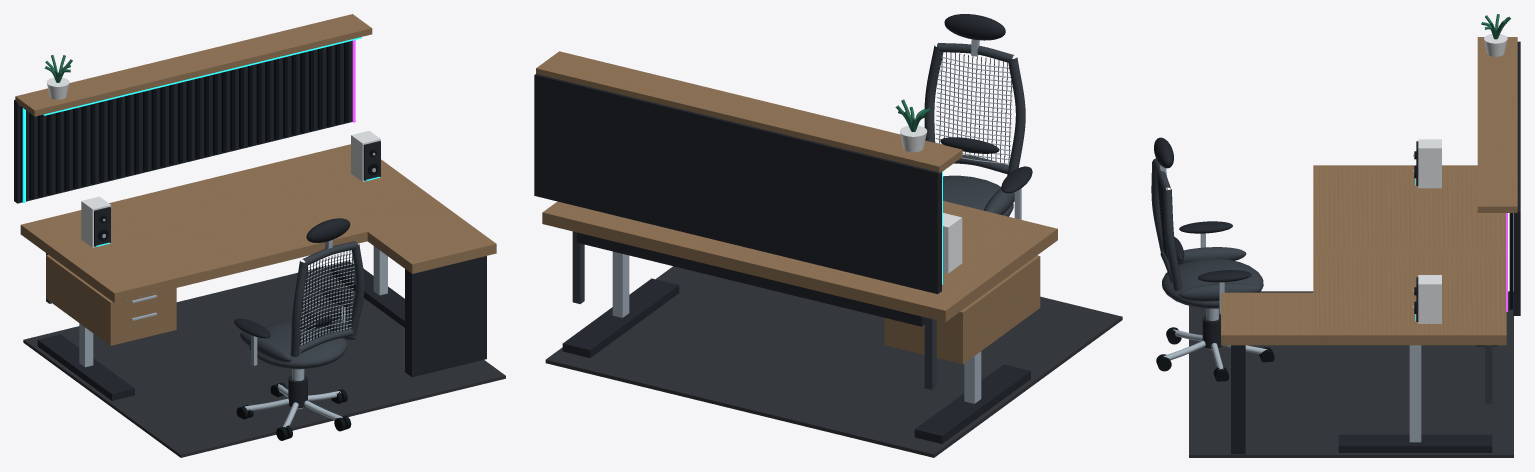
Rendered from furniture85-oak.glb.
The picture shows the model from 3 angles, left to right: view 1: azimuth 30°, elevation 25°; view 2: azimuth 150°, elevation 25°; view 3: azimuth 270°, elevation 25°; orthographic projection. The views are drawn at different scales.
Visible parts, largest first — view 1: s83-surface-aa570fc5-2dd5-464b-a9e1-32b9e9395084, s83-surface-4eed5475-73f9-4112-a0f8-cae410176088, s83-surface-552bce98-1128-4cd5-8bcc-b2e776c83c39, s83-surface-804e1797-804a-4871-b65b-fe994ecedee7, s83-surface-77d8890f-de57-4a69-874a-96963f91ef9b, s83-surface-8c113f22-1d9e-4361-a366-19054b4a2192, s83-surface-6b452c49-f145-495c-a3de-9c197d094284, s83-surface-35d7deae-23a2-4a52-a8cc-423f68fc3dd6; view 2: s83-surface-552bce98-1128-4cd5-8bcc-b2e776c83c39, s83-surface-4eed5475-73f9-4112-a0f8-cae410176088, s83-surface-aa570fc5-2dd5-464b-a9e1-32b9e9395084, s83-surface-77d8890f-de57-4a69-874a-96963f91ef9b, s83-surface-8c113f22-1d9e-4361-a366-19054b4a2192, s83-surface-804e1797-804a-4871-b65b-fe994ecedee7, s83-surface-6b452c49-f145-495c-a3de-9c197d094284; view 3: s83-surface-aa570fc5-2dd5-464b-a9e1-32b9e9395084, s83-surface-4eed5475-73f9-4112-a0f8-cae410176088, s83-surface-552bce98-1128-4cd5-8bcc-b2e776c83c39, s83-surface-77d8890f-de57-4a69-874a-96963f91ef9b, s83-surface-6b452c49-f145-495c-a3de-9c197d094284, s83-surface-8c113f22-1d9e-4361-a366-19054b4a2192, s83-surface-804e1797-804a-4871-b65b-fe994ecedee7.
Boxes of the visible parts, x1,y1,x2,y2 form: s83-surface-aa570fc5-2dd5-464b-a9e1-32b9e9395084: [15, 14, 496, 345]; s83-surface-4eed5475-73f9-4112-a0f8-cae410176088: [23, 260, 505, 457]; s83-surface-552bce98-1128-4cd5-8bcc-b2e776c83c39: [14, 40, 486, 408]; s83-surface-804e1797-804a-4871-b65b-fe994ecedee7: [20, 41, 378, 440]; s83-surface-77d8890f-de57-4a69-874a-96963f91ef9b: [46, 241, 364, 369]; s83-surface-8c113f22-1d9e-4361-a366-19054b4a2192: [79, 153, 387, 427]; s83-surface-6b452c49-f145-495c-a3de-9c197d094284: [46, 77, 380, 247]; s83-surface-35d7deae-23a2-4a52-a8cc-423f68fc3dd6: [22, 37, 379, 246]; s83-surface-552bce98-1128-4cd5-8bcc-b2e776c83c39: [534, 14, 1032, 443]; s83-surface-4eed5475-73f9-4112-a0f8-cae410176088: [545, 266, 1122, 457]; s83-surface-aa570fc5-2dd5-464b-a9e1-32b9e9395084: [536, 51, 1057, 364]; s83-surface-77d8890f-de57-4a69-874a-96963f91ef9b: [572, 43, 1025, 389]; s83-surface-8c113f22-1d9e-4361-a366-19054b4a2192: [612, 39, 1021, 403]; s83-surface-804e1797-804a-4871-b65b-fe994ecedee7: [939, 52, 1011, 164]; s83-surface-6b452c49-f145-495c-a3de-9c197d094284: [900, 125, 962, 273]; s83-surface-aa570fc5-2dd5-464b-a9e1-32b9e9395084: [1221, 37, 1517, 345]; s83-surface-4eed5475-73f9-4112-a0f8-cae410176088: [1189, 291, 1513, 457]; s83-surface-552bce98-1128-4cd5-8bcc-b2e776c83c39: [1154, 41, 1520, 454]; s83-surface-77d8890f-de57-4a69-874a-96963f91ef9b: [1151, 158, 1492, 404]; s83-surface-6b452c49-f145-495c-a3de-9c197d094284: [1418, 34, 1507, 323]; s83-surface-8c113f22-1d9e-4361-a366-19054b4a2192: [1158, 154, 1421, 442]; s83-surface-804e1797-804a-4871-b65b-fe994ecedee7: [1156, 151, 1512, 381].
Bounding box in the file's own units: 2.2 × 1.76 × 2.02.
Materials: 10 (1 with a texture image).
